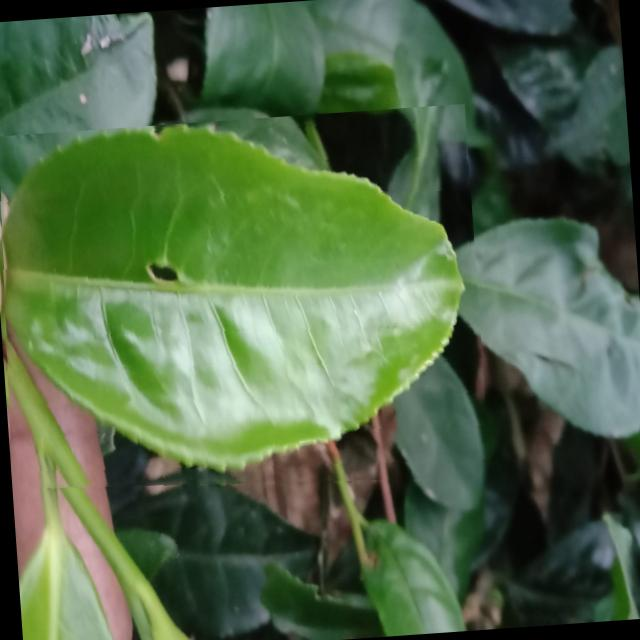Category C(4-7 days): (0, 103, 489, 509)
